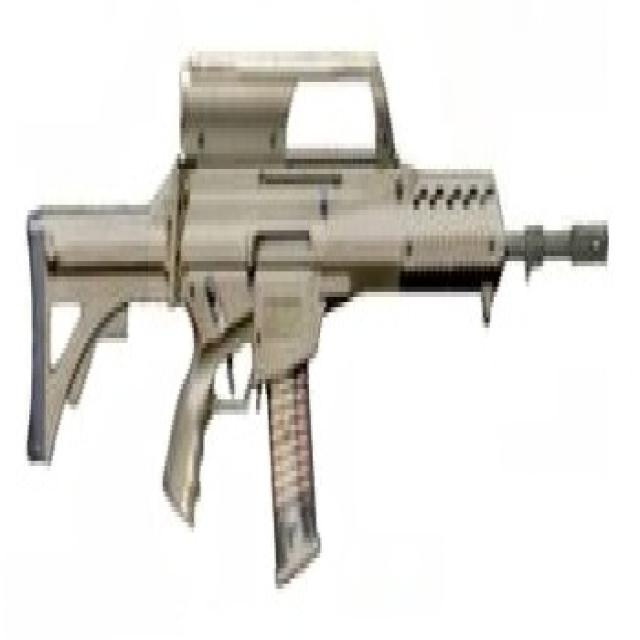rifle: (17, 36, 621, 611)
